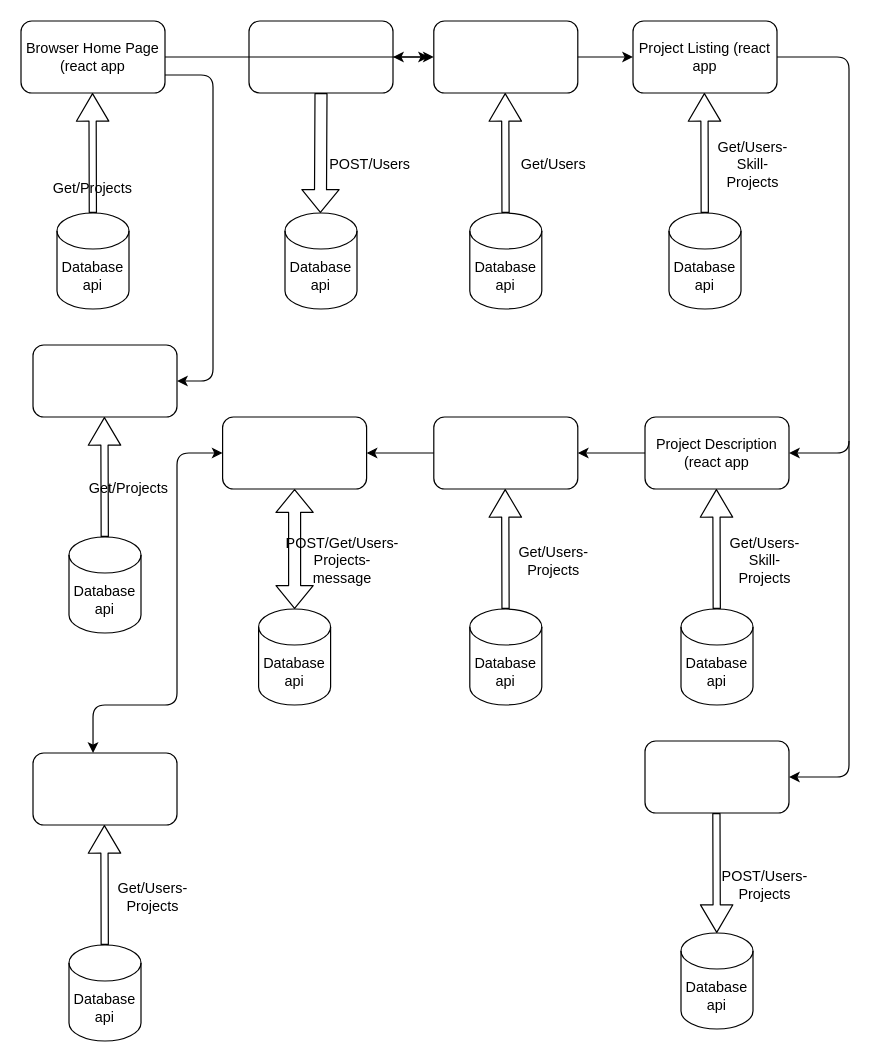
Image size: 880x1062. Some labels were removed from this diagram. The shapes that lost their labels are listed below. From the top down, each one's centre as x and y in pixels, then its label:
point (320, 56): Registration - Profile (react app
point (505, 56): Login (react app
point (104, 380): Project Description w/0 messages (react app
point (294, 452): Project description w. messages (react app
point (505, 452): Join Request (react app
point (104, 788): Mentor Request (react app
point (716, 776): New Project (react app
